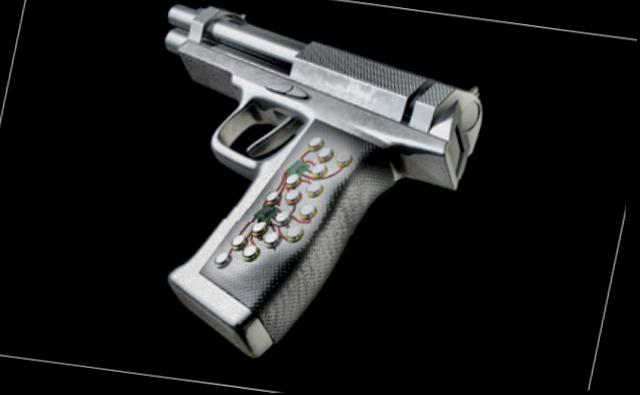pistol: (97, 0, 500, 381)
